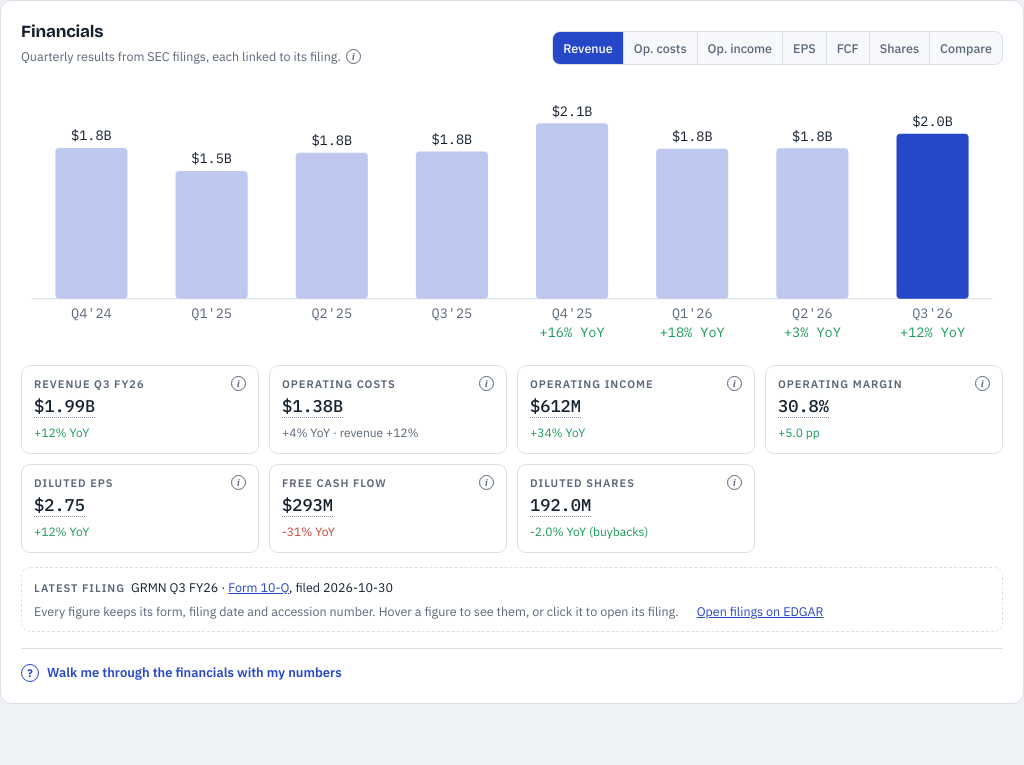
CompareView › starts with revenue, operating income, EPS and the share count
The width and height of the screenshot is (1024, 765).
Click the button "Compare" at [966, 48], box top-left (929, 32), bottom-right (1002, 64)
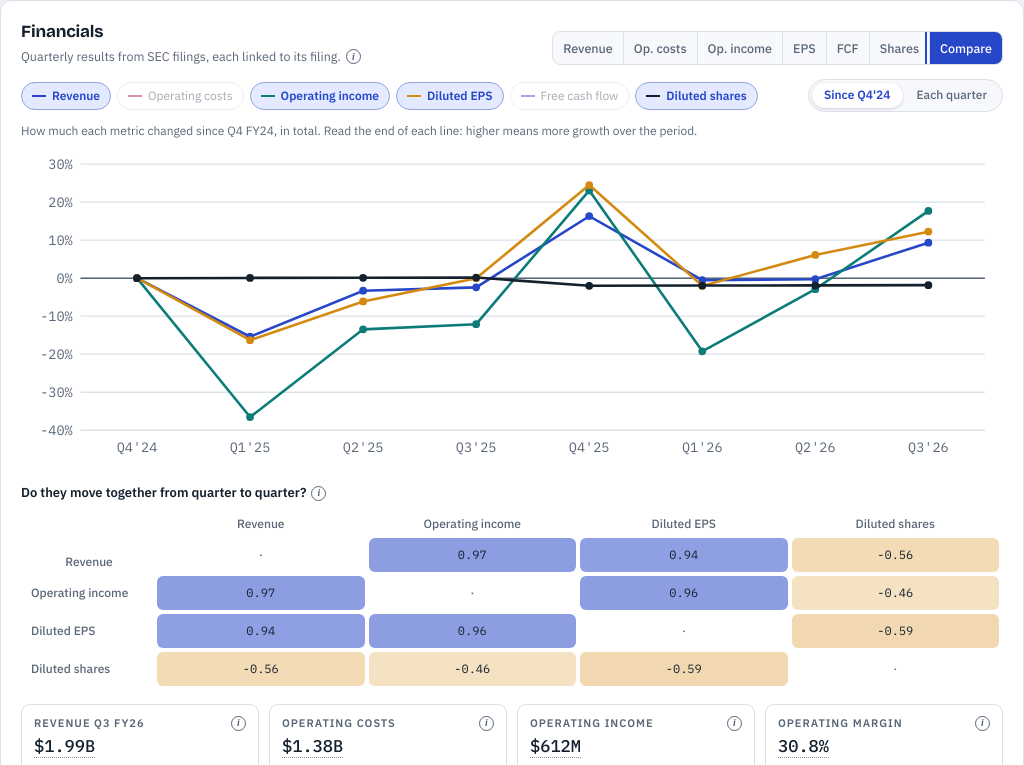
Now the icon named "Financial metrics compared by quarter for GRMN" is shown, box top-left (21, 146), bottom-right (1003, 469)
